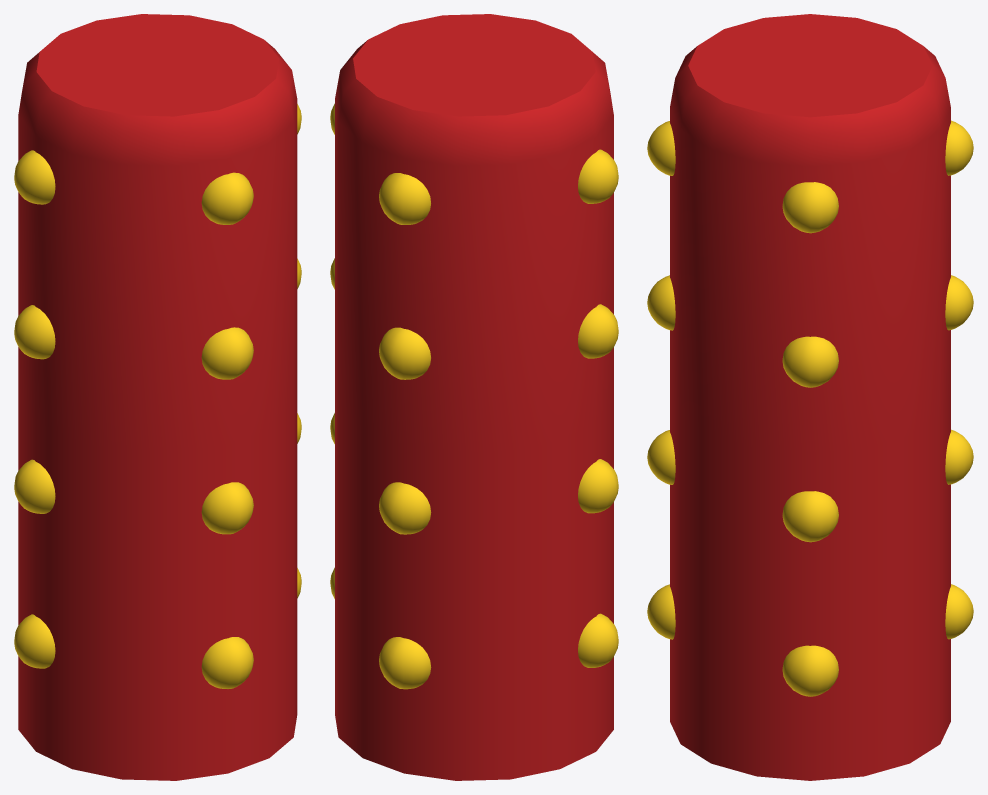
Rendered from obstacleCylinder.fbx.
3 views of the same model, side by side, from view 1: azimuth 30°, elevation 25°; view 2: azimuth 150°, elevation 25°; view 3: azimuth 270°, elevation 25° (orthographic).
Visible parts, largest first — view 1: Cylinder; view 2: Cylinder; view 3: Cylinder.
Part boxes in pixels (<box>): Cylinder: <box>14,14,301,780</box>; Cylinder: <box>330,14,618,780</box>; Cylinder: <box>647,14,973,780</box>.
Bounding box in the file's own units: 90.2 × 200 × 90.23.
